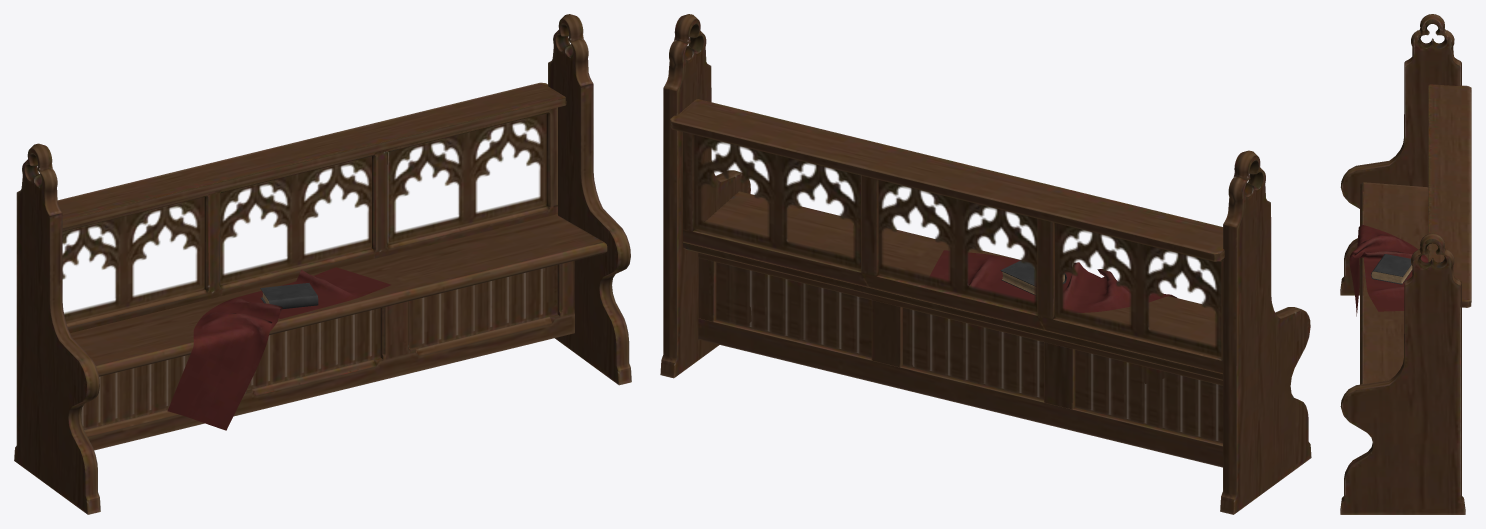
Rendered from church_pew_bench.glb.
3 views of the same model, side by side, from view 1: azimuth 30°, elevation 25°; view 2: azimuth 150°, elevation 25°; view 3: azimuth 270°, elevation 25° (orthographic). The views are drawn at different scales.
Visible parts, largest first — view 1: Bench, scarf:Mesh, cover004 group1; view 2: Bench, scarf:Mesh; view 3: Bench, scarf:Mesh, cover004 group1, group1 Paper004.
Boxes of the visible parts, left/top/right/bottom form: Bench: left=14, top=14, right=631, bottom=514; scarf:Mesh: left=167, top=267, right=391, bottom=430; cover004 group1: left=260, top=283, right=318, bottom=309; Bench: left=660, top=14, right=1311, bottom=514; scarf:Mesh: left=925, top=250, right=1176, bottom=312; Bench: left=1340, top=14, right=1471, bottom=514; scarf:Mesh: left=1349, top=225, right=1428, bottom=316; cover004 group1: left=1371, top=254, right=1411, bottom=284; group1 Paper004: left=1371, top=265, right=1412, bottom=283.
Size of the model in its own units: 1.95 by 1.13 by 0.4824.
4 materials, 4 textured.
